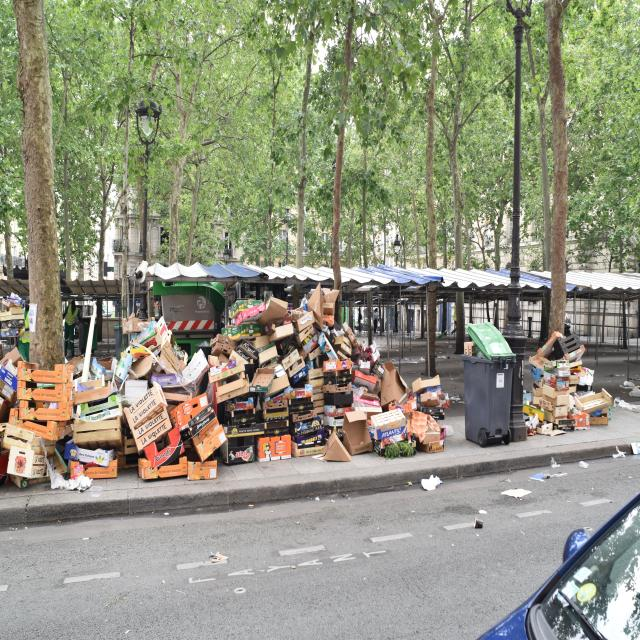lixo domiciliar: (216, 298, 317, 430), (133, 389, 216, 482), (16, 362, 73, 439), (0, 420, 48, 488), (528, 332, 590, 382), (72, 394, 124, 449), (324, 359, 354, 442), (526, 381, 574, 431), (123, 383, 169, 434), (378, 360, 422, 413), (69, 445, 125, 480), (47, 454, 94, 492), (314, 331, 354, 375), (249, 361, 287, 402), (572, 388, 612, 426), (344, 407, 374, 455), (413, 373, 449, 413), (0, 353, 26, 404), (279, 343, 309, 387), (1, 296, 25, 351), (371, 410, 409, 444), (293, 420, 325, 458), (155, 338, 185, 375), (88, 354, 125, 384), (349, 365, 376, 405), (320, 431, 354, 462), (181, 347, 210, 383), (18, 364, 70, 384), (73, 382, 113, 407), (256, 296, 289, 326), (223, 434, 256, 464), (258, 433, 292, 461), (306, 283, 328, 326), (533, 402, 571, 426), (216, 373, 246, 401), (128, 354, 152, 379), (359, 338, 382, 364), (1, 346, 25, 368), (343, 324, 361, 352), (415, 434, 441, 453), (213, 336, 234, 358), (123, 316, 148, 334), (613, 397, 640, 412), (0, 306, 25, 322), (248, 334, 271, 351), (422, 474, 441, 491), (500, 489, 532, 499), (529, 354, 550, 368), (464, 342, 475, 356), (629, 442, 640, 454), (621, 380, 637, 388)
